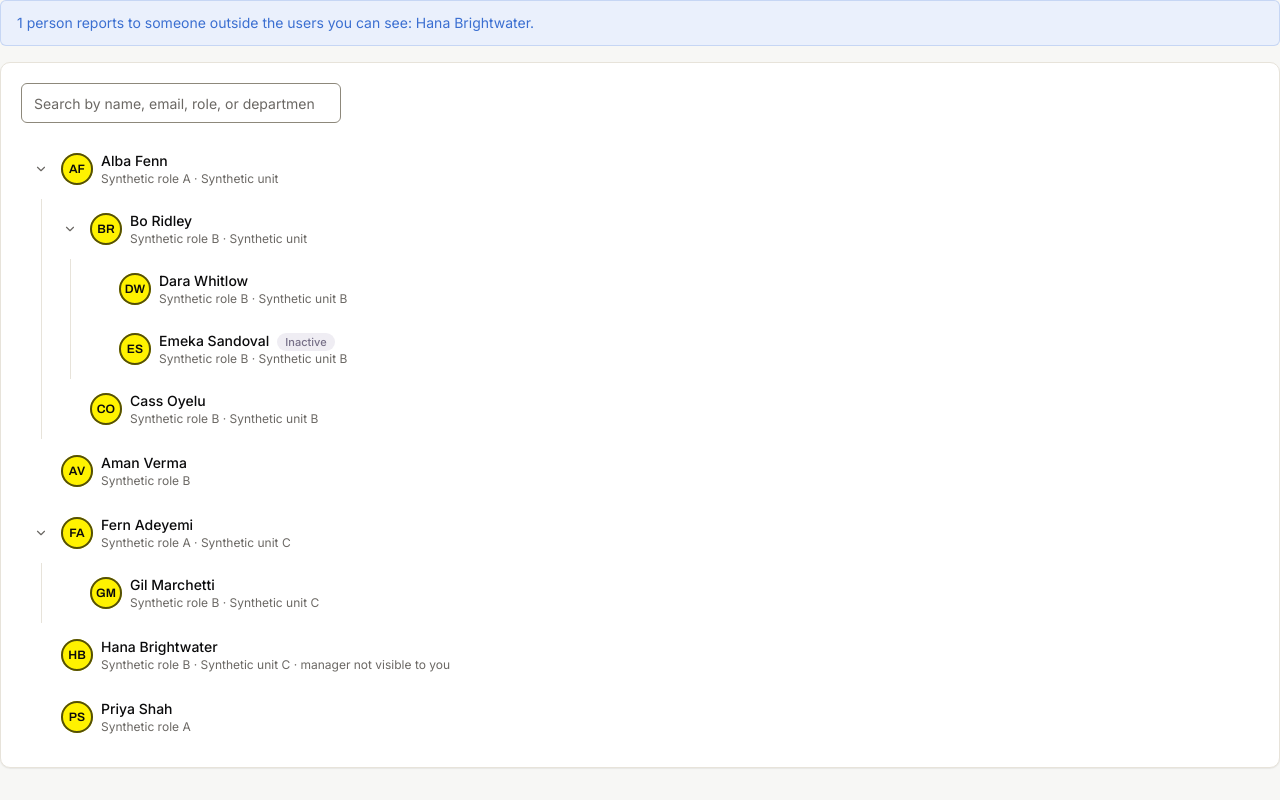
Test case: org chart › collapses a branch when its disclosure is toggled
Expected: the text "Alba Fenn" is shown, [101,152,168,169]
Expected: the text "Bo Ridley" is shown, [130,212,192,229]
Click the button named "Collapse Alba Fenn's reports" at (41, 169), box [29,157,53,181]
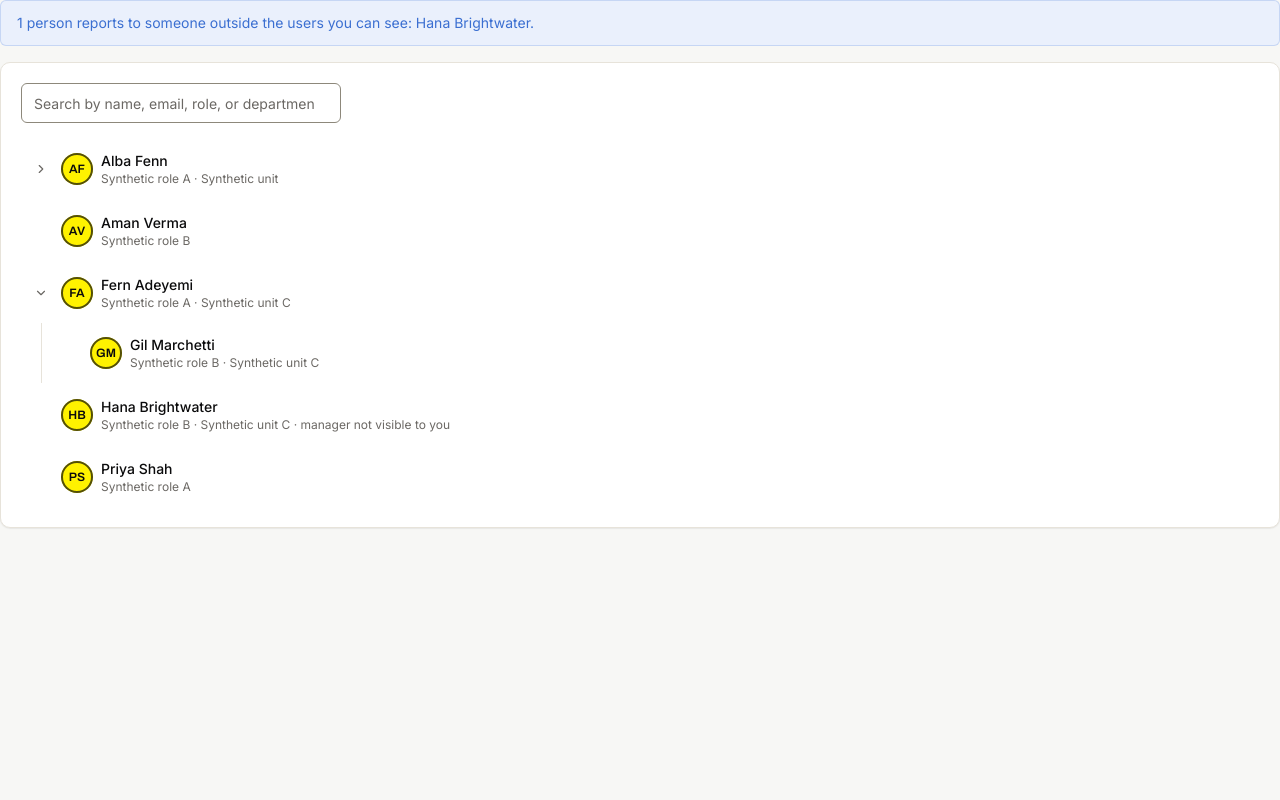
Expected: the text "Bo Ridley" is gone
